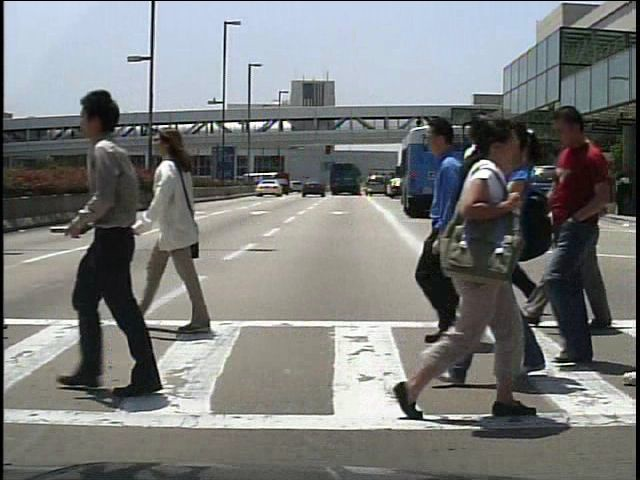person: (57, 79, 194, 400), (399, 112, 531, 426), (402, 117, 510, 348), (541, 105, 615, 375), (147, 120, 226, 336), (458, 130, 531, 322), (555, 142, 612, 341), (582, 168, 602, 218), (489, 163, 507, 215)
